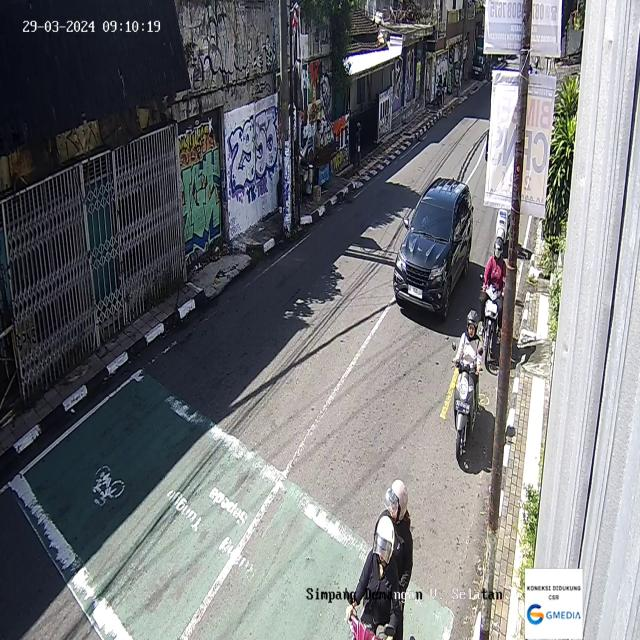car: (392, 176, 473, 320)
motorcycle: (347, 480, 414, 640), (451, 310, 483, 463), (478, 238, 506, 372), (495, 205, 511, 249)
